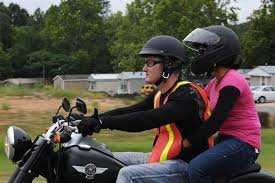helmet: (181, 22, 244, 76), (133, 32, 186, 88)
